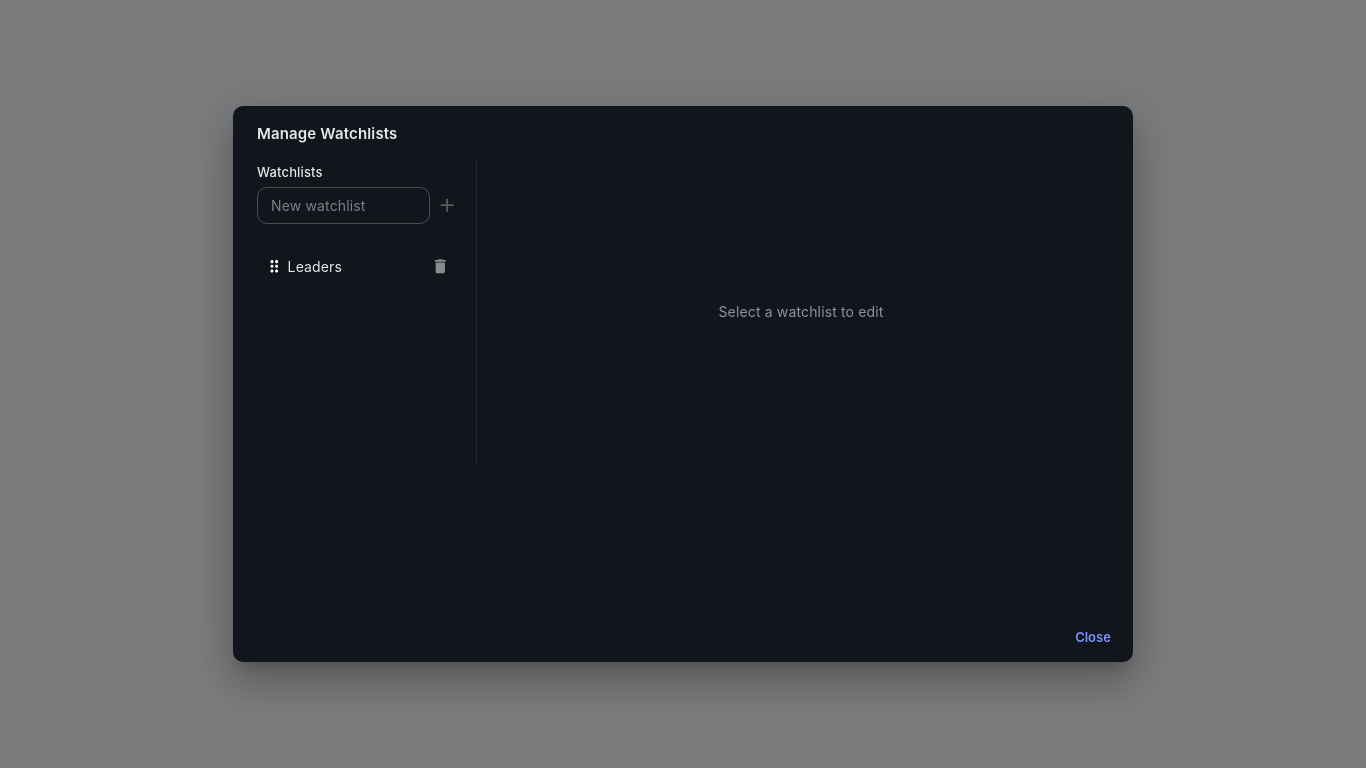
Test: UserWatchlistManager import flow › shows a readable message when the server rejects the import with a validation list
Click the button "Leaders" at (315, 266), box left=249, top=248, right=468, bottom=285
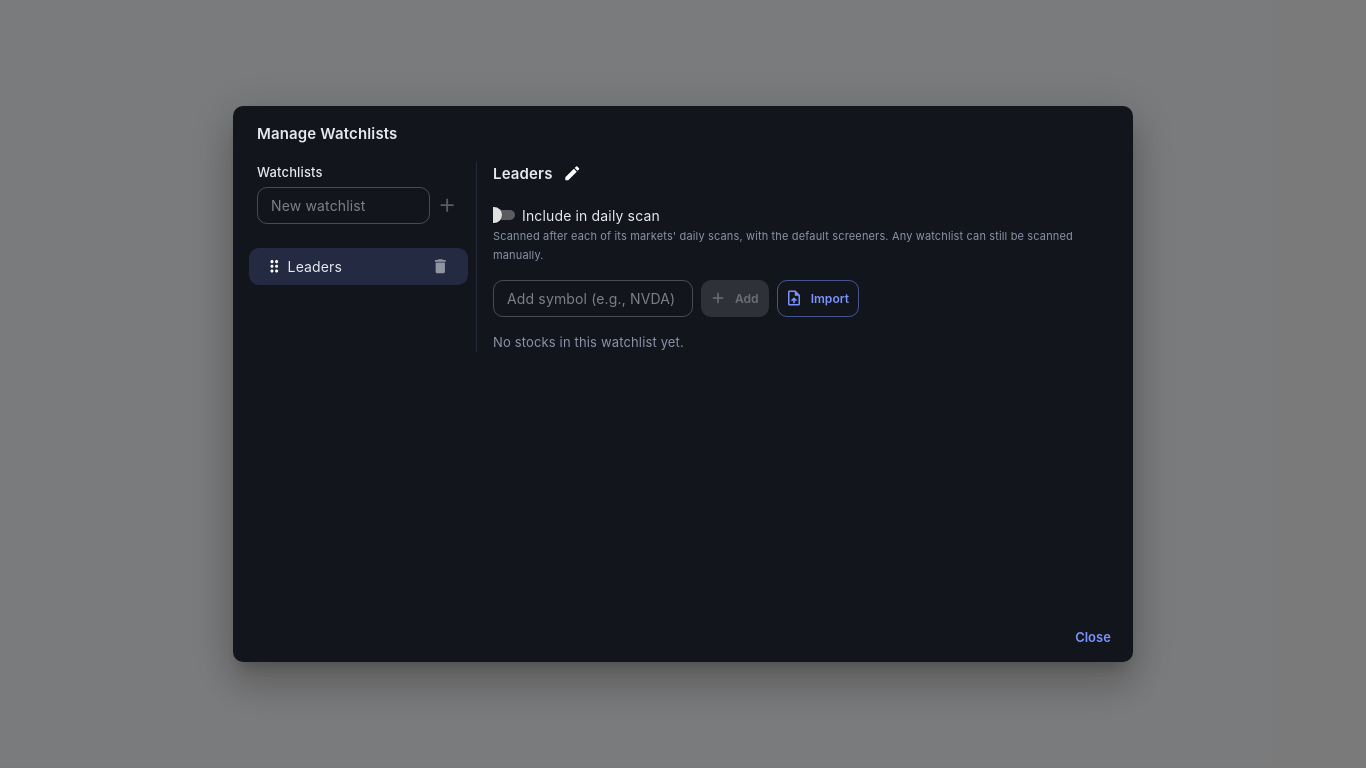
Click the button "Import" at (818, 298), box left=777, top=280, right=859, bottom=317
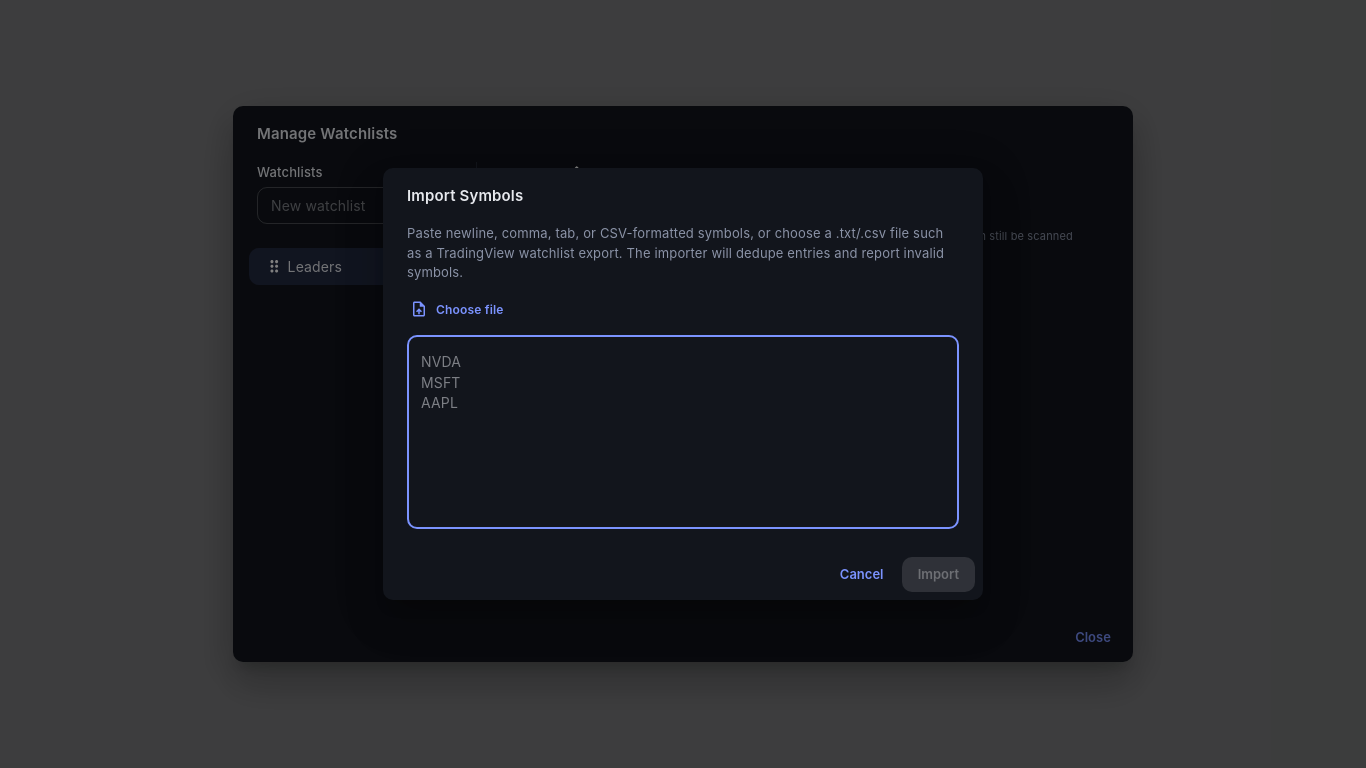
Type "NVDA" into the text box named "Symbols to import" at (683, 432), box left=421, top=352, right=945, bottom=512
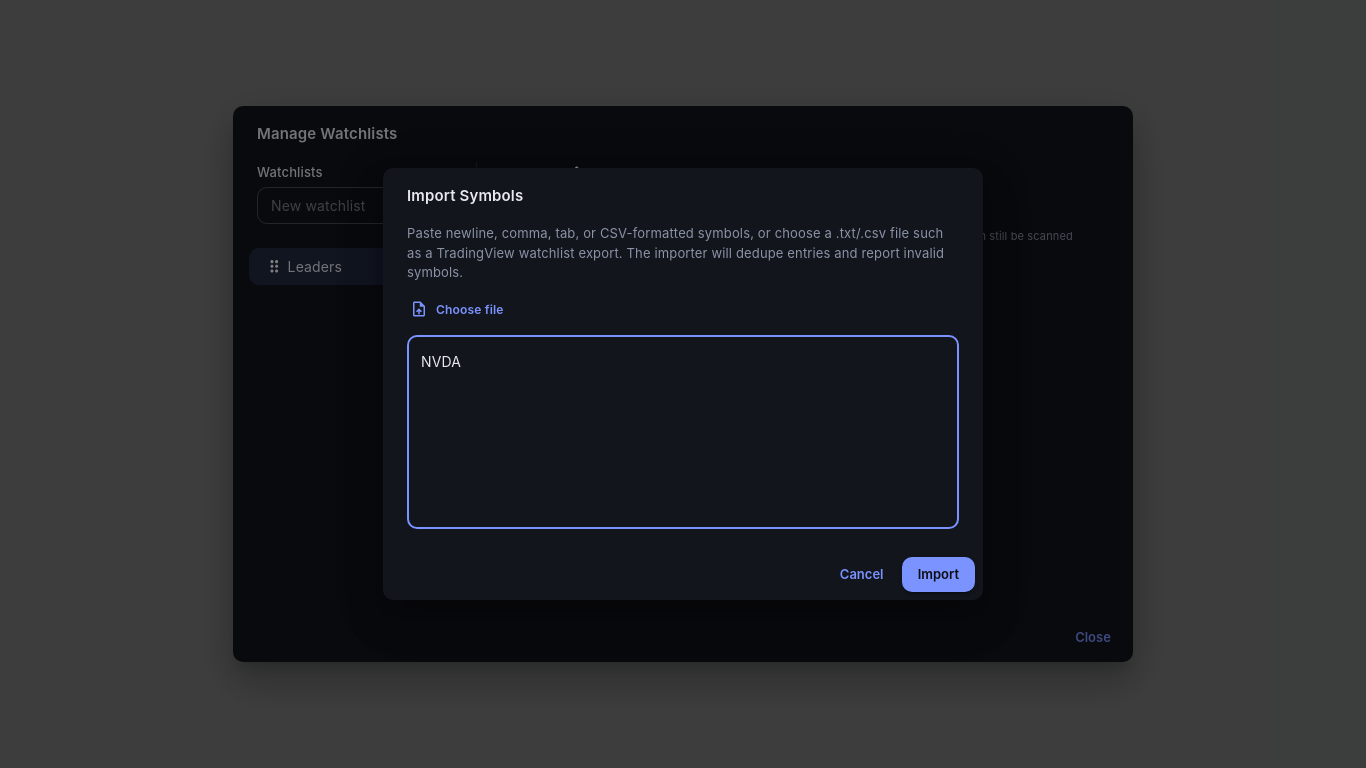
Click the button "Import" at (938, 574), box left=902, top=557, right=975, bottom=592
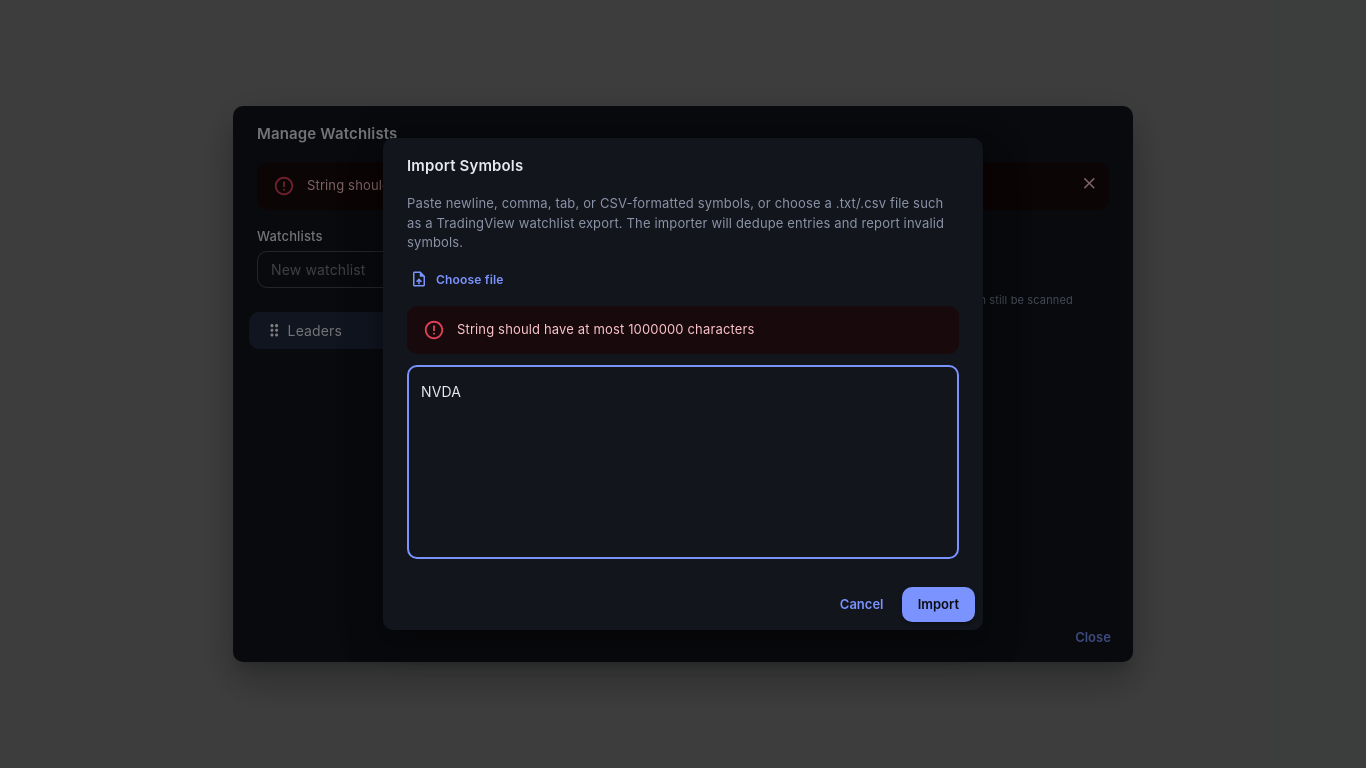
Result: the message reads "String should have at most 1000000 characters" at left=457, top=321, right=754, bottom=337
